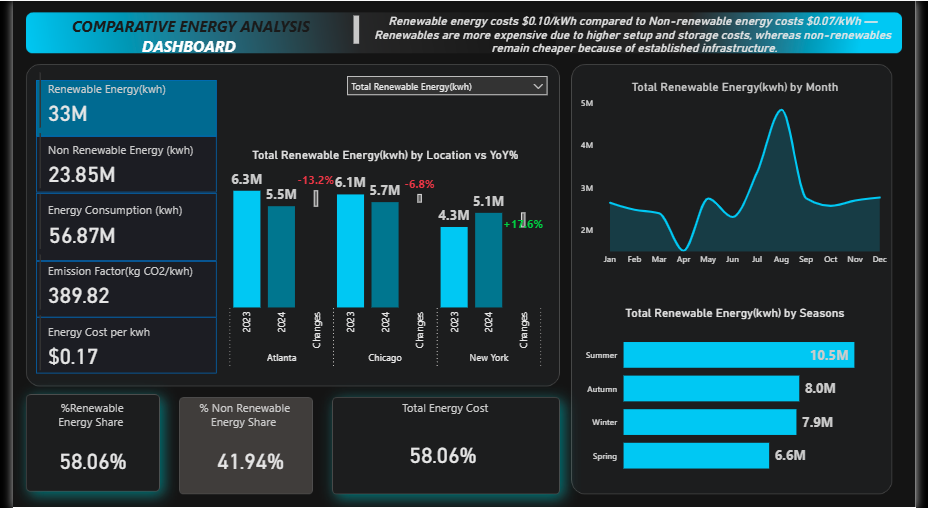

This screenshot's page, from the dashboard's own definition file:
{"tool":"powerbi","page":{"name":"Page 1","canvas":[1280,720],"ordinal":0},"visuals":[{"type":"shape","box":[32,448,256,80],"z":0},{"type":"shape","box":[32,368,256,80],"z":1000},{"type":"shape","box":[32,272,256,96],"z":2000},{"type":"shape","box":[32,192,256,80],"z":3000},{"type":"shape","box":[32,112,256,80],"z":4000},{"type":"slicer","fields":{"Values":["Switchable Measures.Switchable Measures"]},"box":[464,96,304,48],"z":5000},{"type":"cardVisual","fields":{"Data":["Dax house.Renewable Energy(kwh)","Dax house.Non Renewable Energy (kwh)","Dax house.Total Energy Consumption (kwh)","Dax house.Emission Factor(kg CO2/kwh)","Dax house.Energy Cost per kwh"]},"box":[32,96,256,432],"z":6000},{"type":"clusteredColumnChart","fields":{"Category":["Data.Location","Year Table.Year"],"Y":["YearTable.YoY Change"]},"box":[288,208,480,320],"z":7000},{"type":"cardVisual","fields":{"Data":["Dax house.% Renewable Energy Share"]},"box":[32,608,160,80],"z":8000},{"type":"textbox","box":[48,560,128,80],"z":9000},{"type":"textbox","box":[256,560,144,80],"z":10000},{"type":"textbox","box":[528,560,176,48],"z":11000},{"type":"cardVisual","fields":{"Data":["Dax house.% Non Renewable Energy Share"]},"box":[256,608,160,80],"z":12000},{"type":"cardVisual","fields":{"Data":["Dax house.% Renewable Energy Share"]},"box":[528,592,160,96],"z":13000},{"type":"lineChart","fields":{"Category":["Calendar.Month"],"Y":["Switchable Measures.Group Measures"]},"box":[800,112,448,272],"z":14000},{"type":"clusteredBarChart","fields":{"Category":["Calendar.Season"],"Y":["Switchable Measures.Group Measures"]},"box":[800,432,448,256],"z":15000},{"type":"textbox","box":[16,16,480,64],"z":16000},{"type":"card","fields":{"Values":["Dax house.Energy Cost Summary"]},"box":[480,0,800,96],"z":17000}]}

Visuals, with their boxes in screenshot pixels (x1, y1, x2, y2), scaled from the page's 1280x720 canvas onto the 928x508 screenshot:
shape: x1=23 y1=316 x2=209 y2=373
shape: x1=23 y1=260 x2=209 y2=316
shape: x1=23 y1=192 x2=209 y2=260
shape: x1=23 y1=135 x2=209 y2=192
shape: x1=23 y1=79 x2=209 y2=135
slicer - Switchable Measures.Switchable Measures: x1=336 y1=68 x2=557 y2=102
cardVisual - Dax house.Renewable Energy(kwh) x Dax house.Non Renewable Energy (kwh): x1=23 y1=68 x2=209 y2=373
clusteredColumnChart - Data.Location x Year Table.Year: x1=209 y1=147 x2=557 y2=373
cardVisual - Dax house.% Renewable Energy Share: x1=23 y1=429 x2=139 y2=485
textbox: x1=35 y1=395 x2=128 y2=452
textbox: x1=186 y1=395 x2=290 y2=452
textbox: x1=383 y1=395 x2=510 y2=429
cardVisual - Dax house.% Non Renewable Energy Share: x1=186 y1=429 x2=302 y2=485
cardVisual - Dax house.% Renewable Energy Share: x1=383 y1=418 x2=499 y2=485
lineChart - Calendar.Month x Switchable Measures.Group Measures: x1=580 y1=79 x2=905 y2=271
clusteredBarChart - Calendar.Season x Switchable Measures.Group Measures: x1=580 y1=305 x2=905 y2=485
textbox: x1=12 y1=11 x2=360 y2=56
card - Dax house.Energy Cost Summary: x1=348 y1=0 x2=927 y2=68
